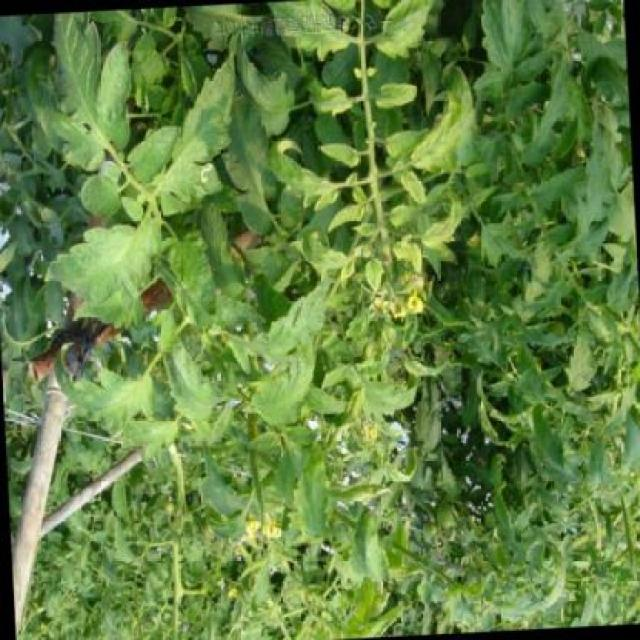Healthy Leaf: (22, 12, 135, 190), (60, 210, 174, 317), (239, 270, 348, 363), (42, 369, 165, 438), (246, 342, 334, 428), (406, 79, 481, 173), (273, 197, 330, 311), (266, 113, 335, 196), (376, 1, 450, 73), (270, 1, 349, 63), (96, 415, 195, 462), (422, 187, 471, 260), (357, 375, 423, 426), (377, 116, 434, 169), (307, 74, 361, 123), (318, 133, 367, 176), (371, 79, 425, 112), (362, 253, 394, 297)
